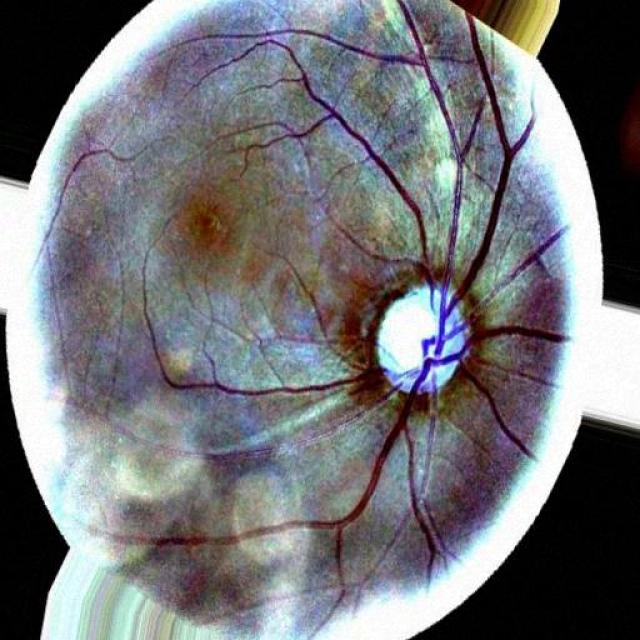Macula: (153, 189, 238, 275)
Nerves: (105, 34, 557, 628), (239, 29, 434, 343)
Optic Disk: (330, 269, 504, 428)
